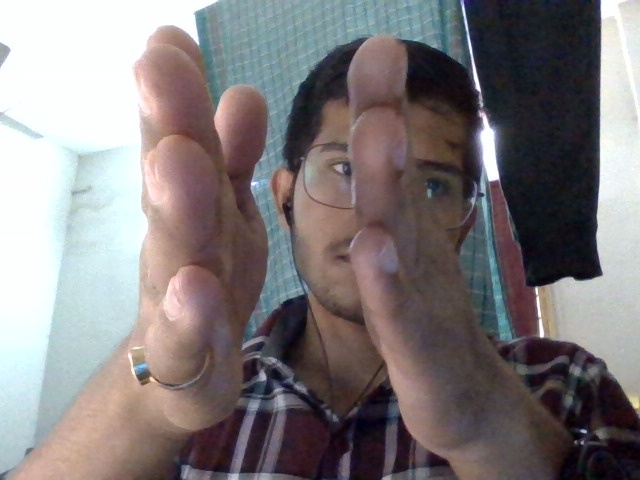ThankYou: (133, 18, 482, 457)
